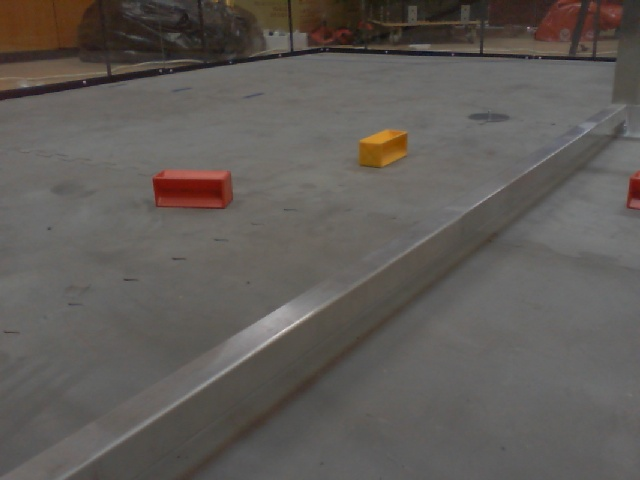RedSample: (151, 166, 234, 213), (627, 167, 640, 210)
YellowSample: (353, 123, 411, 169)
